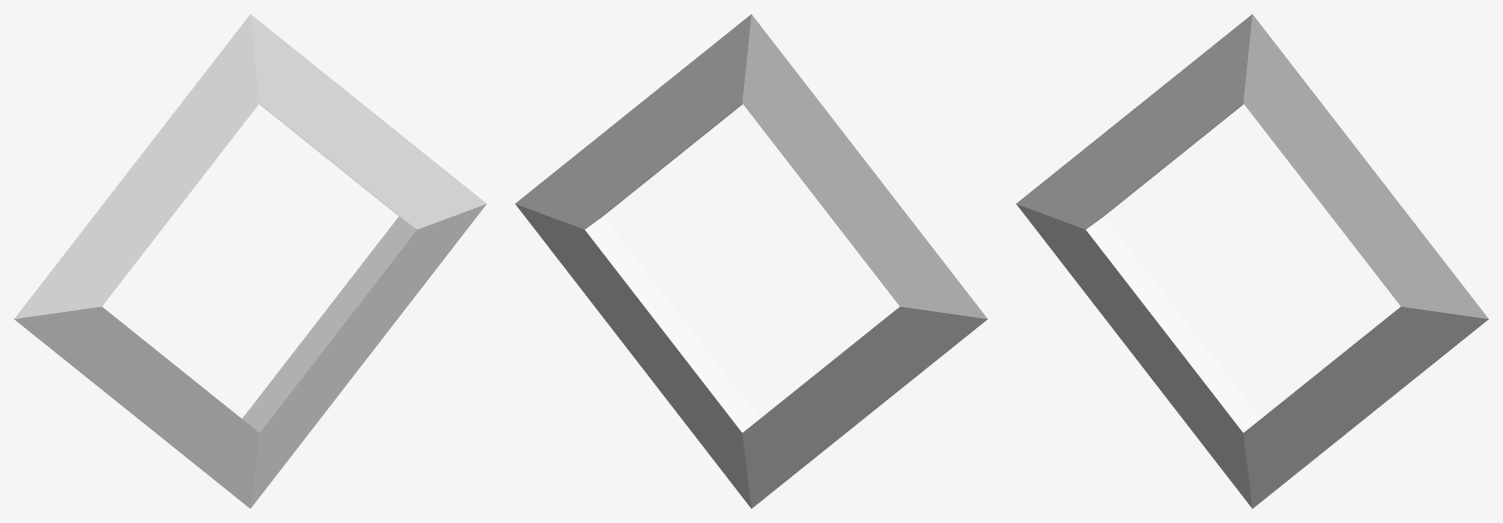
Rendered from inside.obj.
3 renders of one model, left to right at view 1: azimuth 30°, elevation 25°; view 2: azimuth 150°, elevation 25°; view 3: azimuth 330°, elevation 25°, orthographic.
Visible parts, largest first — view 1: inside; view 2: inside; view 3: inside.
Part boxes in pixels (left/top/right/bottom): inside: left=14, top=14, right=486, bottom=508; inside: left=515, top=14, right=987, bottom=508; inside: left=1016, top=14, right=1488, bottom=508.
Bounding box in the file's own units: 3 × 3 × 0.2008.
Materials: 1 (1 with a texture image).
